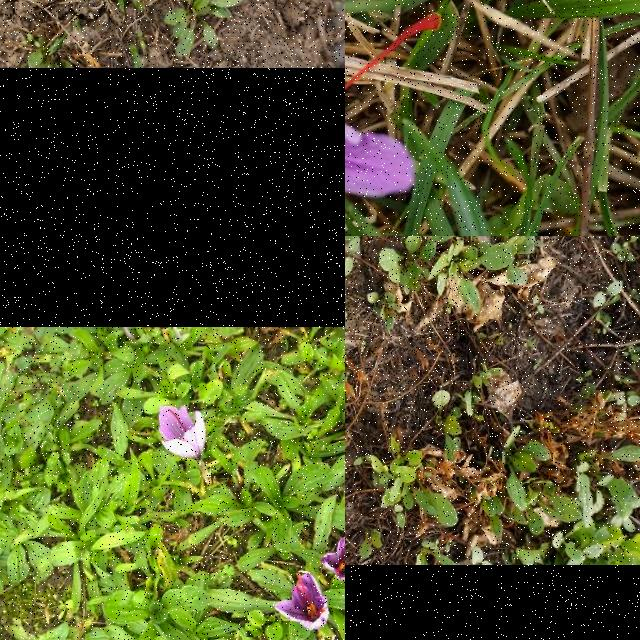flower: (345, 0, 443, 236), (274, 570, 328, 632), (158, 406, 206, 460), (319, 525, 345, 589)
